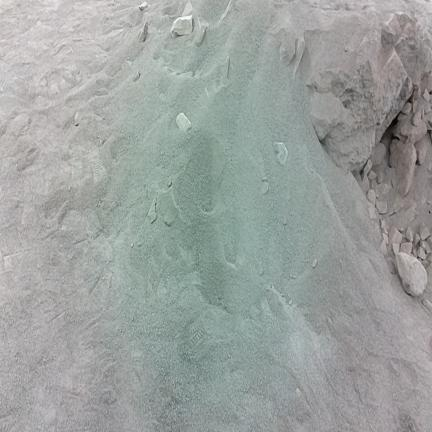Rock: (307, 13, 431, 170), (390, 140, 416, 196), (396, 253, 427, 296), (394, 113, 426, 143), (280, 25, 297, 63), (170, 15, 193, 37), (294, 37, 305, 78), (415, 134, 427, 164), (370, 143, 386, 165), (195, 19, 208, 46), (175, 112, 192, 132), (273, 143, 288, 165), (413, 88, 426, 113), (220, 0, 232, 21), (358, 173, 370, 193), (389, 227, 402, 243), (139, 21, 148, 42), (182, 0, 193, 16), (419, 223, 429, 240), (367, 189, 376, 206), (371, 179, 379, 197), (376, 201, 387, 213), (400, 243, 412, 254), (422, 117, 432, 130), (364, 160, 372, 175), (413, 111, 421, 126), (402, 102, 411, 114), (406, 227, 413, 242), (418, 248, 426, 259), (139, 2, 148, 10), (423, 89, 429, 101), (134, 70, 140, 81), (393, 243, 399, 254), (377, 172, 383, 183), (383, 234, 388, 243), (380, 219, 385, 228)
